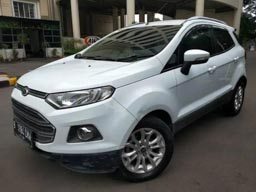plat: (12, 122, 32, 144)
